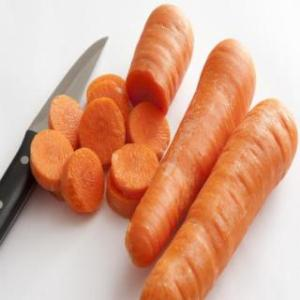carrot: (134, 97, 300, 299), (125, 34, 258, 266), (126, 4, 194, 112)
